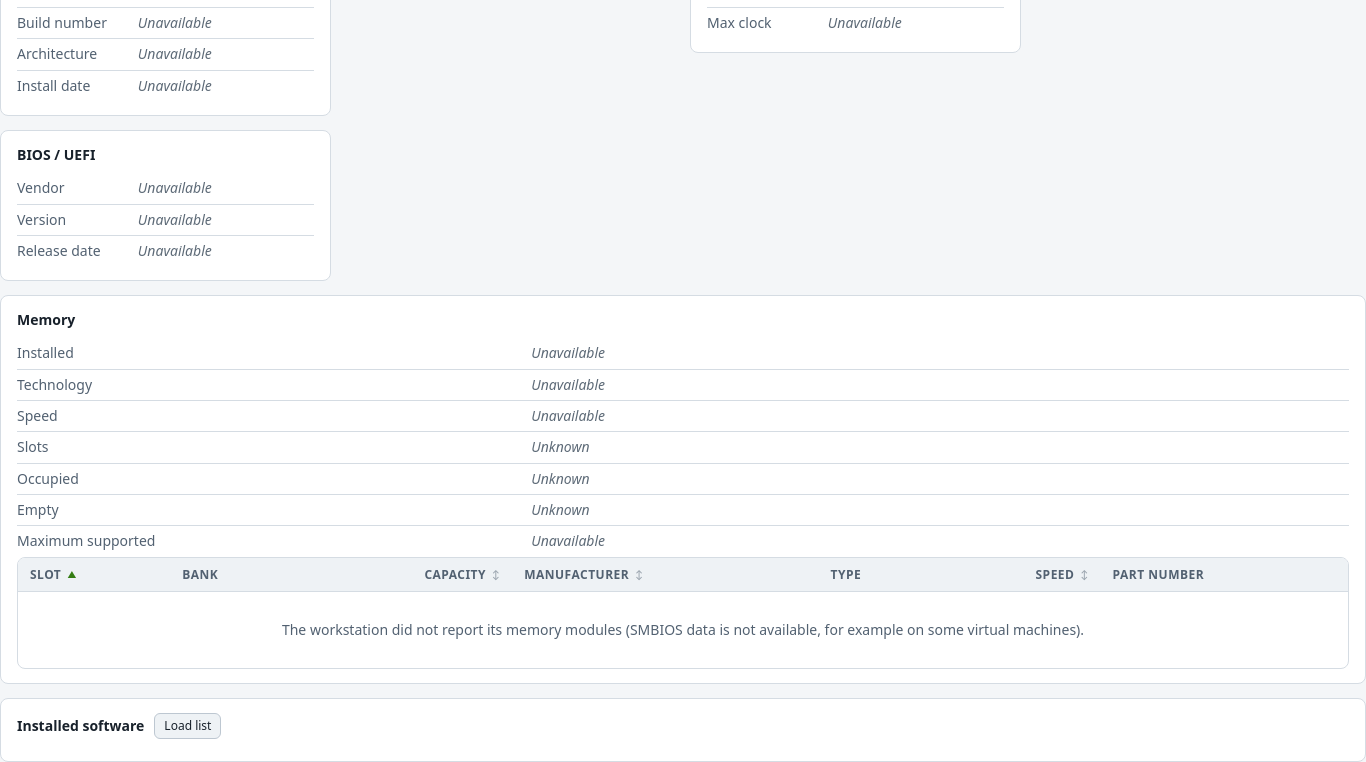
Test case: Installed software (HardwareTab) › Operator whose request still gets 403 sees the same notice, not a raw error
(page scrolled)
Click the button "Load list". click: (188, 726)
box: top-left (154, 713), bottom-right (222, 739)
(page scrolled)
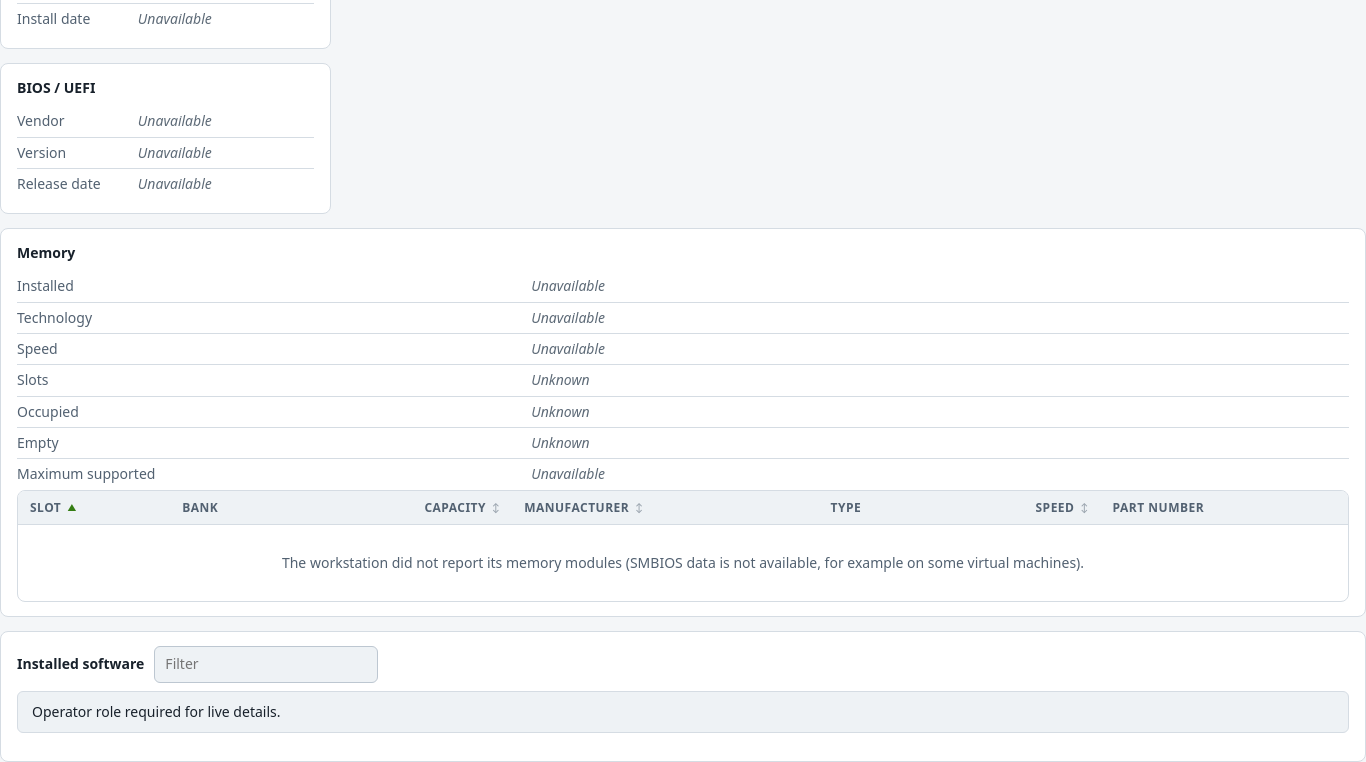
Check: the message "Operator role required for live details." is shown, box top-left (17, 690), bottom-right (1349, 733)
